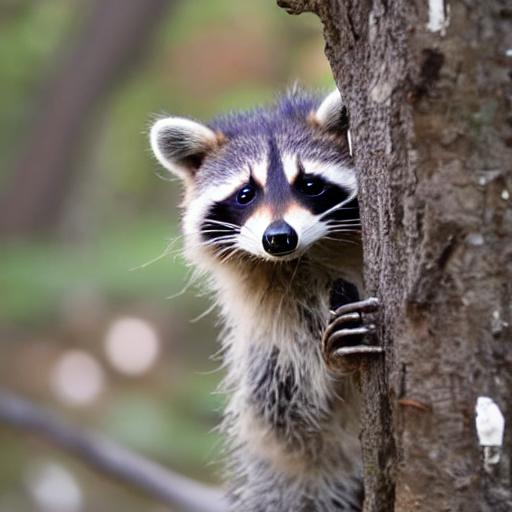raccoon: (143, 88, 371, 512)
